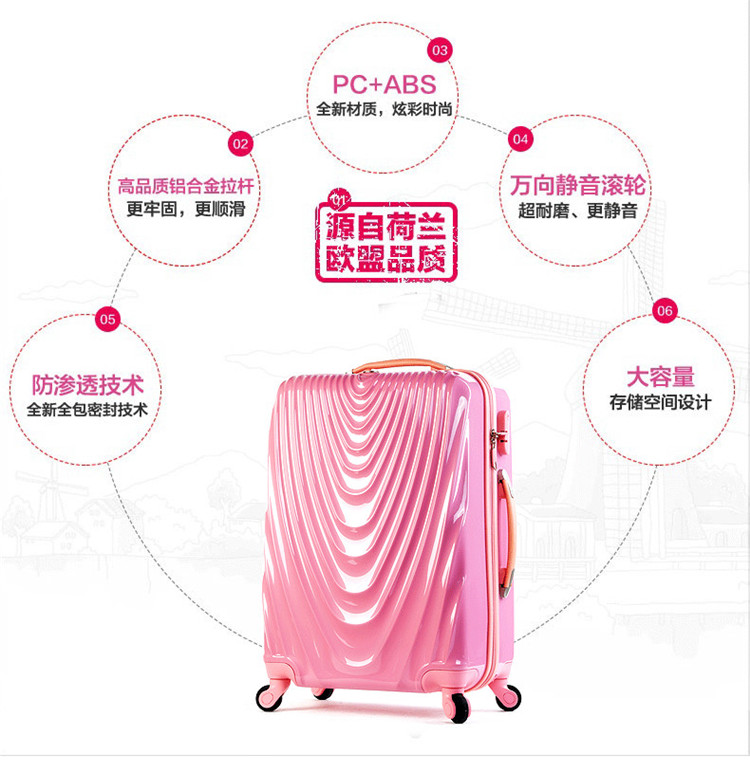luggage: (258, 355, 516, 728)
